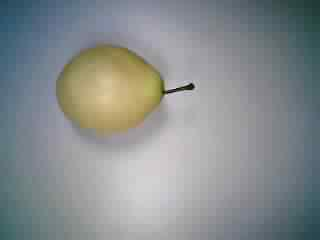pear: (42, 42, 203, 142)
